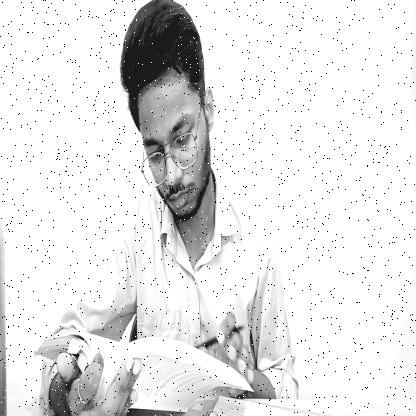Distracted: (120, 1, 214, 231)
